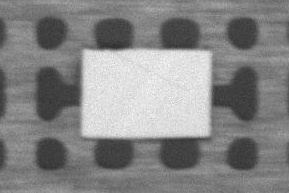DIE_CRACK: (166, 34, 282, 61)
